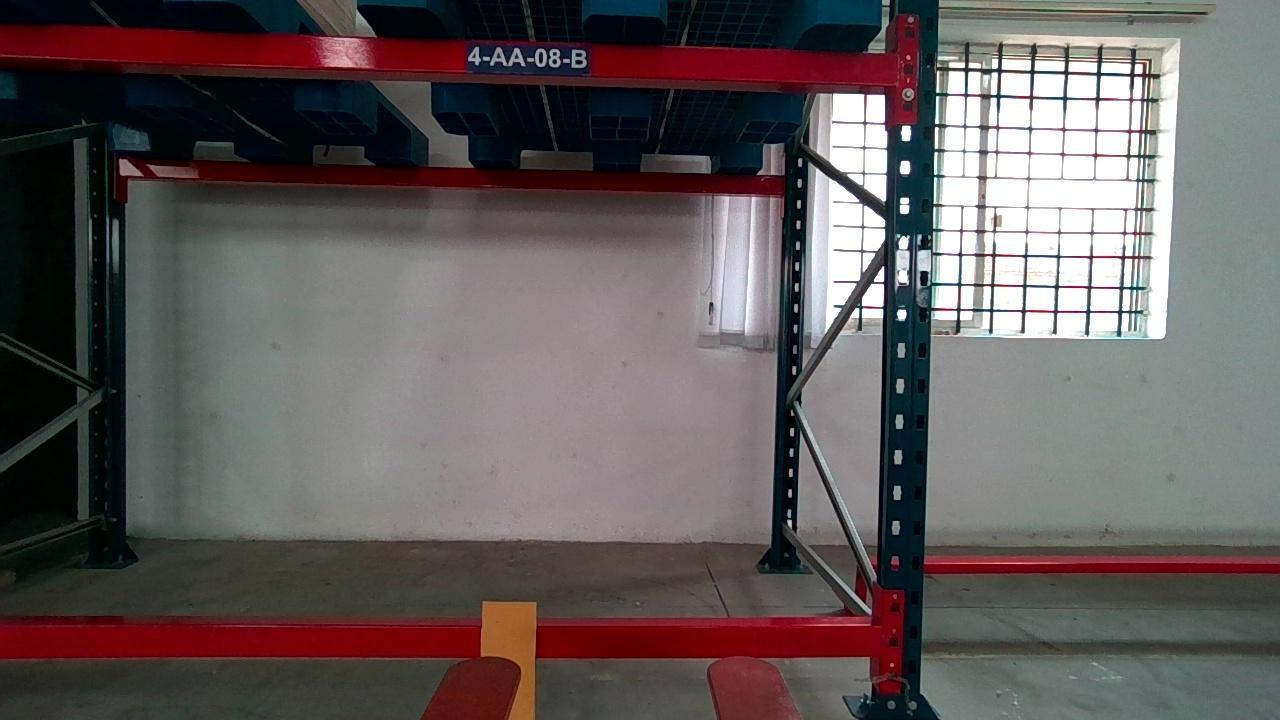h_rack: (0, 24, 897, 86), (0, 625, 879, 655)
orange_strip: (481, 601, 534, 720)
